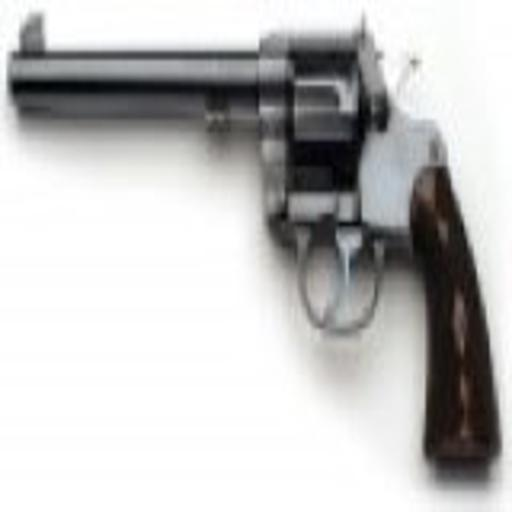Handgun: (5, 11, 504, 489)
